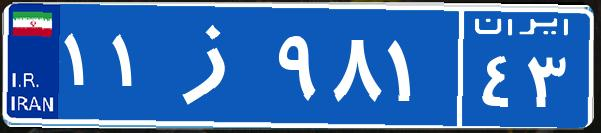1: (385, 28, 445, 110), (57, 26, 110, 107), (110, 28, 158, 105)
3: (525, 38, 570, 115)
4: (475, 38, 525, 113)
8: (330, 28, 385, 110)
9: (273, 28, 330, 110)
ز: (158, 15, 273, 115)
